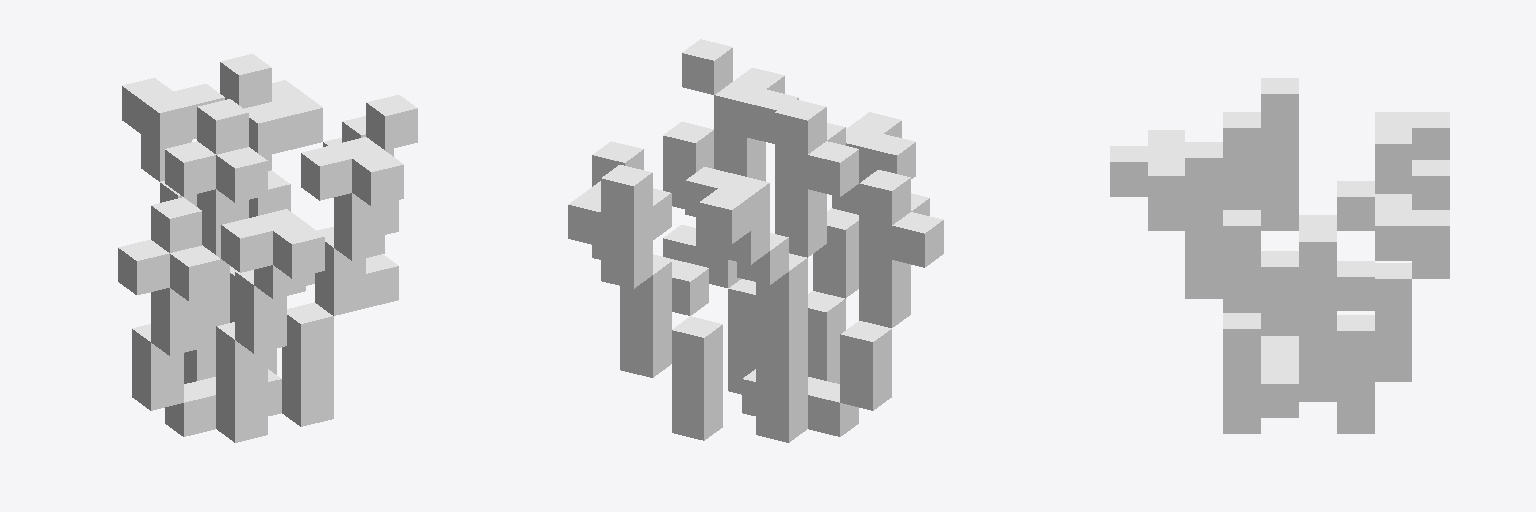
The model's file is Potato_3.obj.
3 views of the same model, side by side, from view 1: azimuth 30°, elevation 25°; view 2: azimuth 150°, elevation 25°; view 3: azimuth 270°, elevation 25° (orthographic).
Visible parts, largest first — view 1: object 1; view 2: object 1; view 3: object 1.
Part boxes in pixels (bbox=[...]): object 1: bbox=[118, 54, 417, 442]; object 1: bbox=[568, 39, 943, 442]; object 1: bbox=[1110, 78, 1449, 433].
Size of the model in its own units: 0.9 by 0.9 by 0.9.